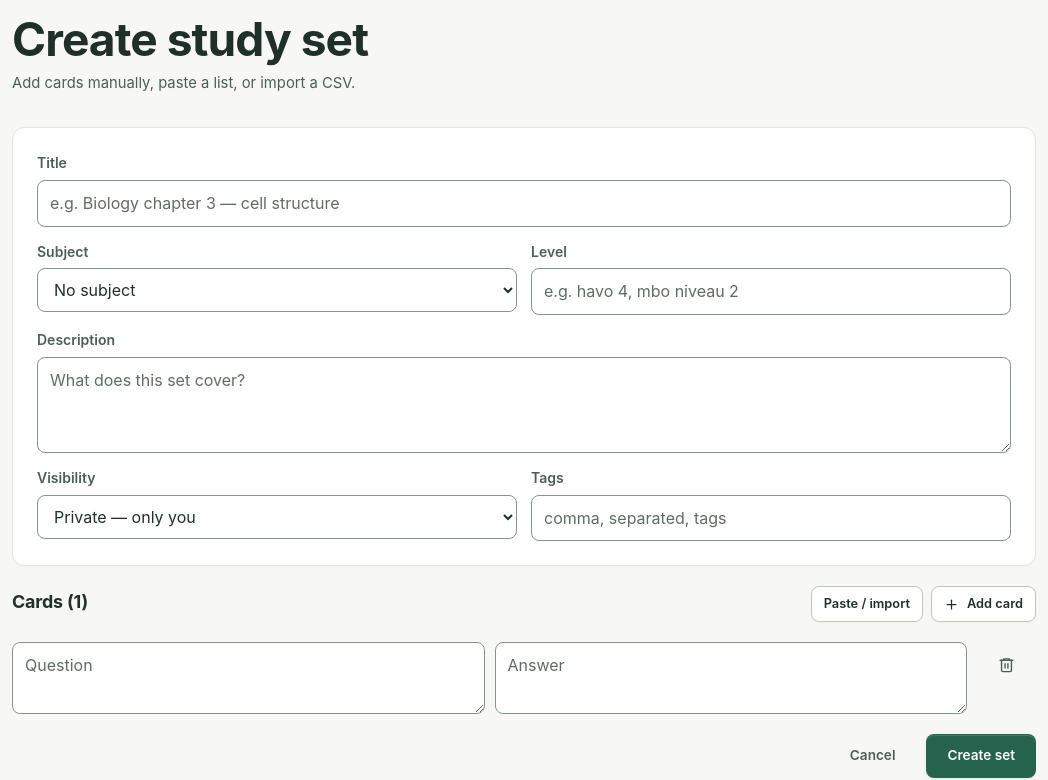
Test: SetEditorPage create mode › requires at least one card before creating
In the field labelled "Title": (524, 203) [37, 180, 1011, 227], type "Empty set"
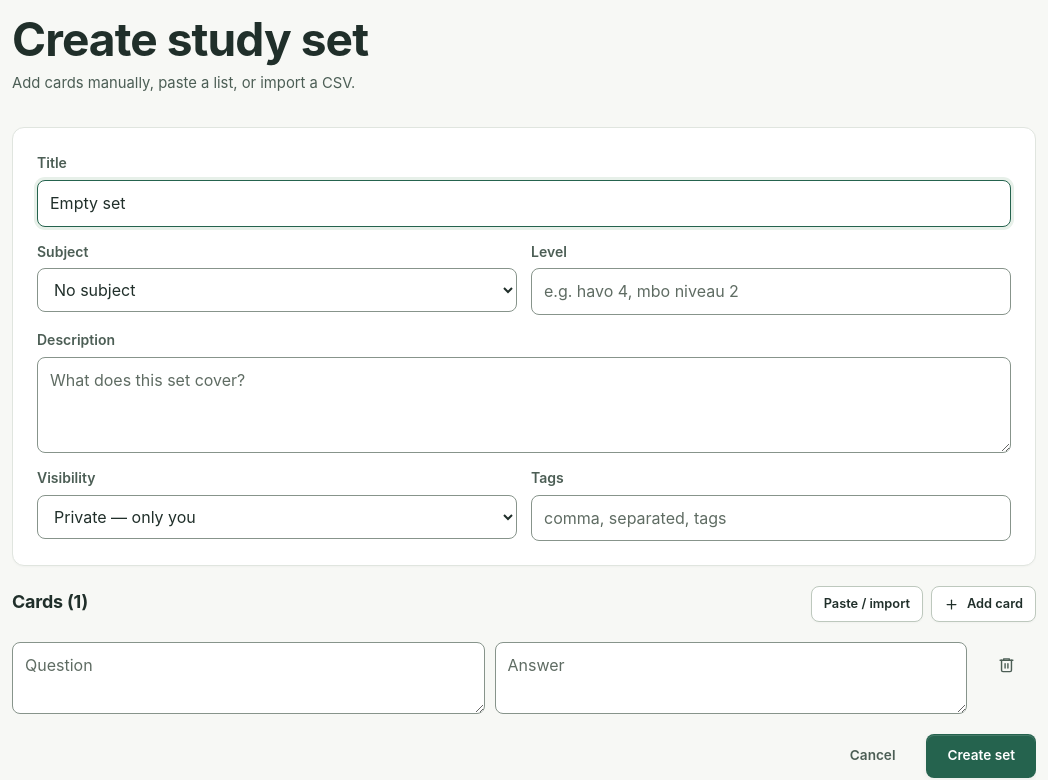
Click the button "Create set": (981, 756) [926, 734, 1036, 778]
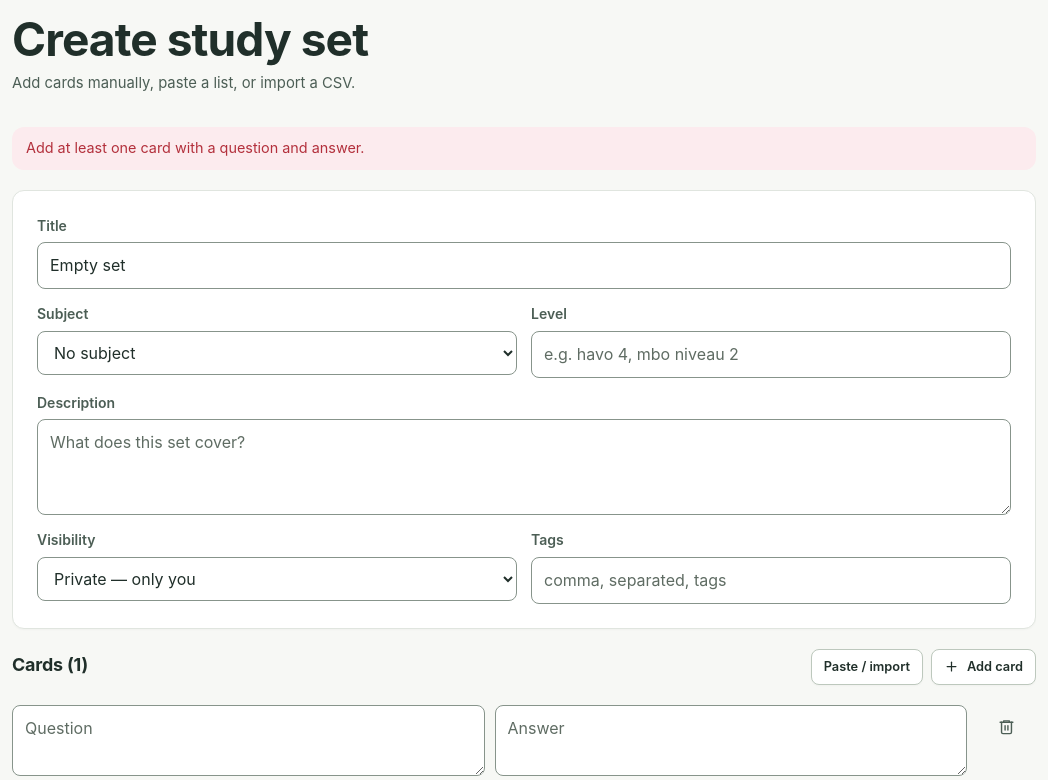
Expected: the text "Add at least one card with a question and answer." is shown, [12, 127, 1036, 170]
